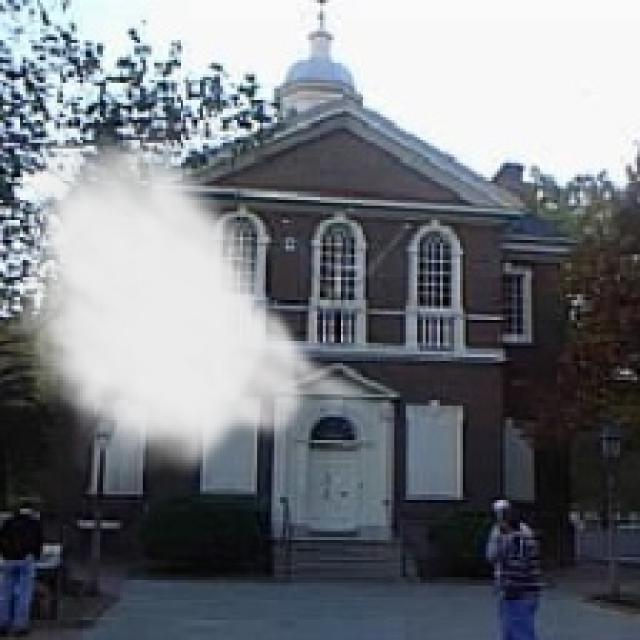smoke: (6, 111, 377, 483)
